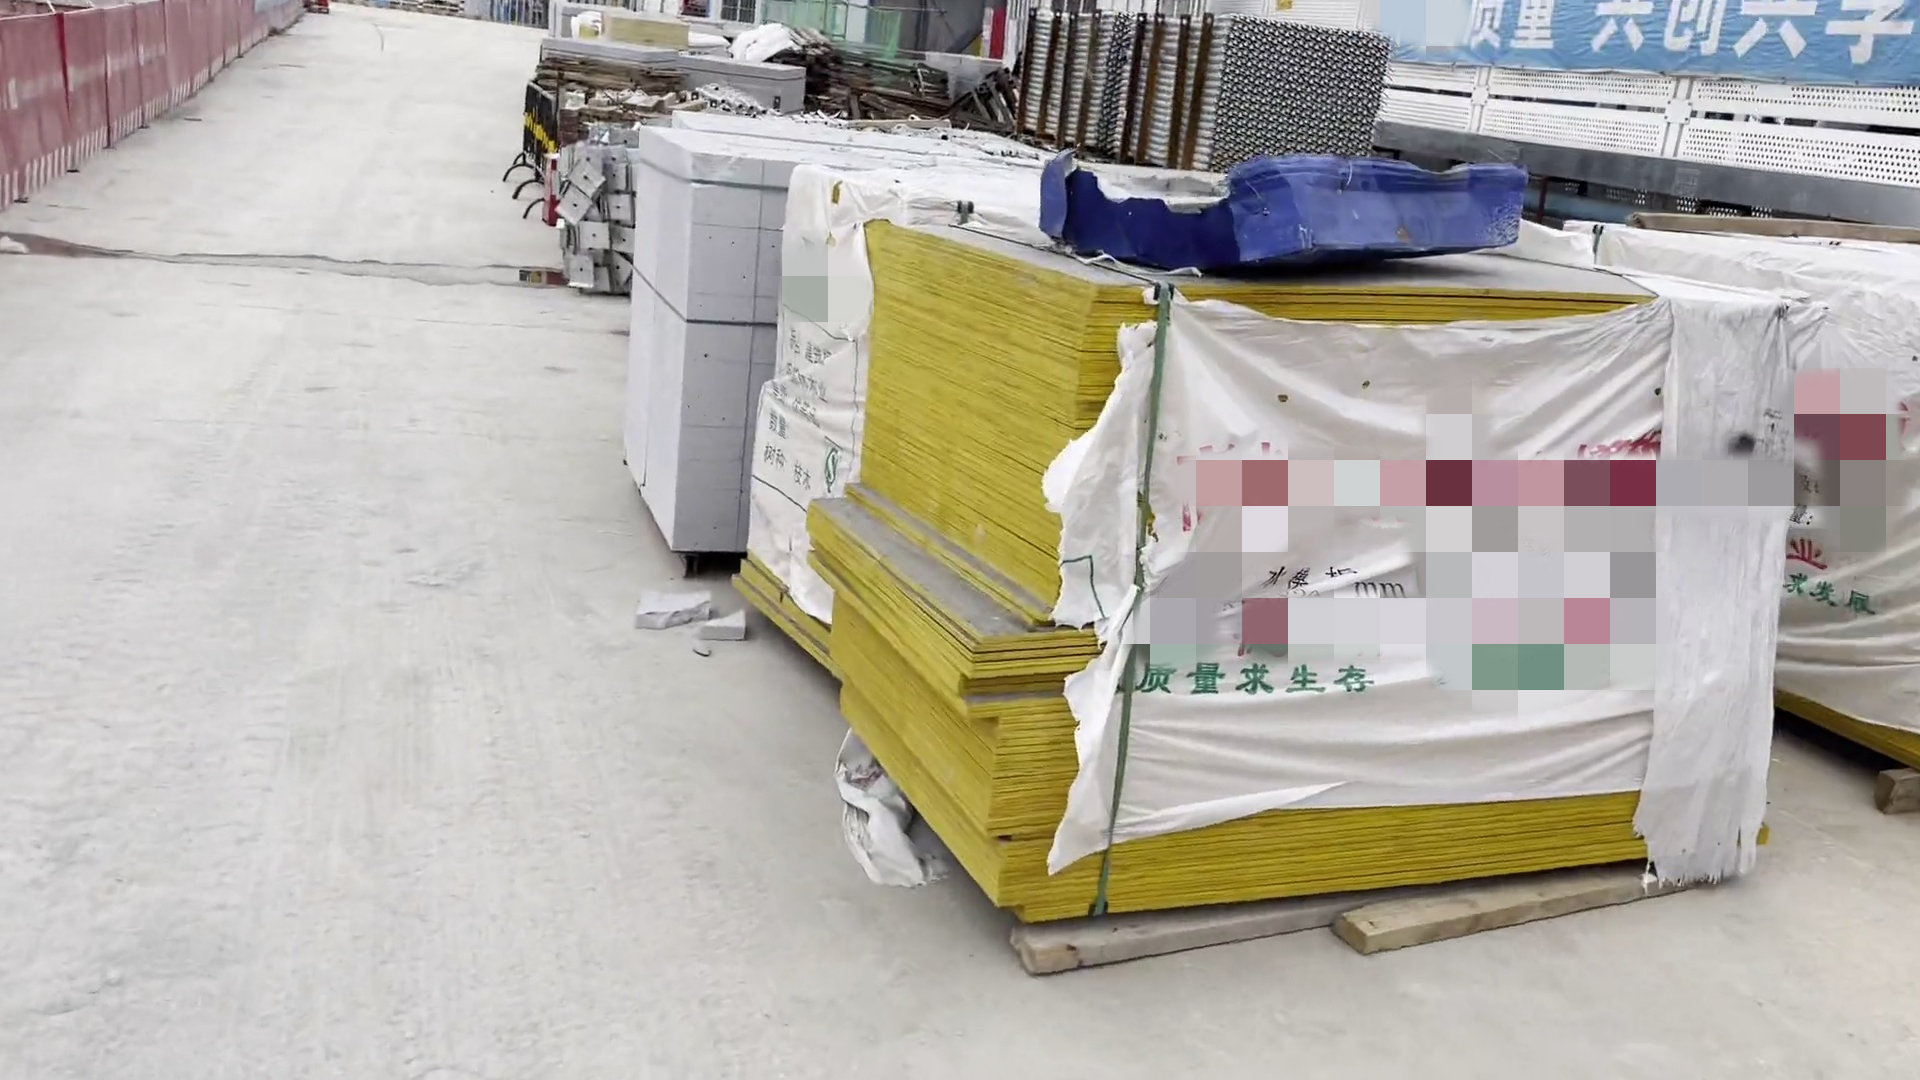board: (735, 156, 1776, 905)
brick: (603, 111, 862, 585)
fence: (1, 1, 314, 219)
scaffold: (993, 1, 1381, 187)
slogan: (1444, 1, 1880, 67)
